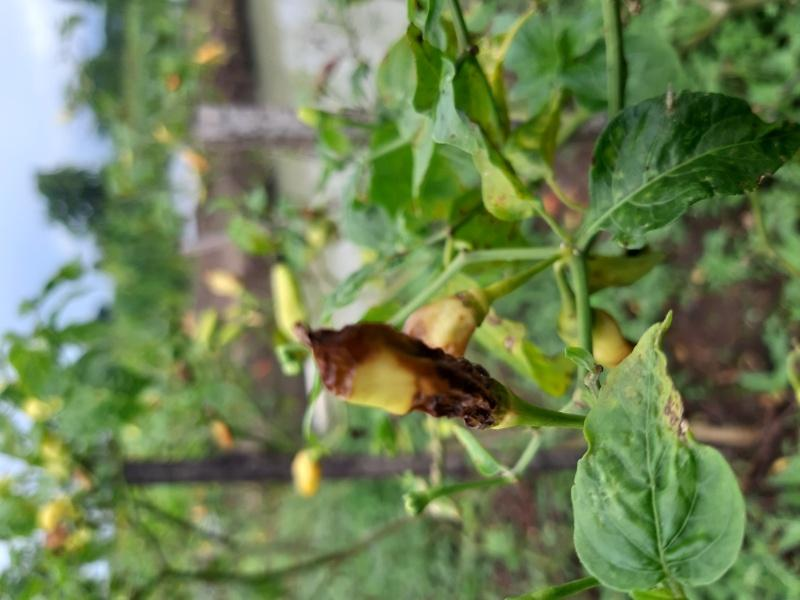antraknosa: (307, 321, 510, 433)
